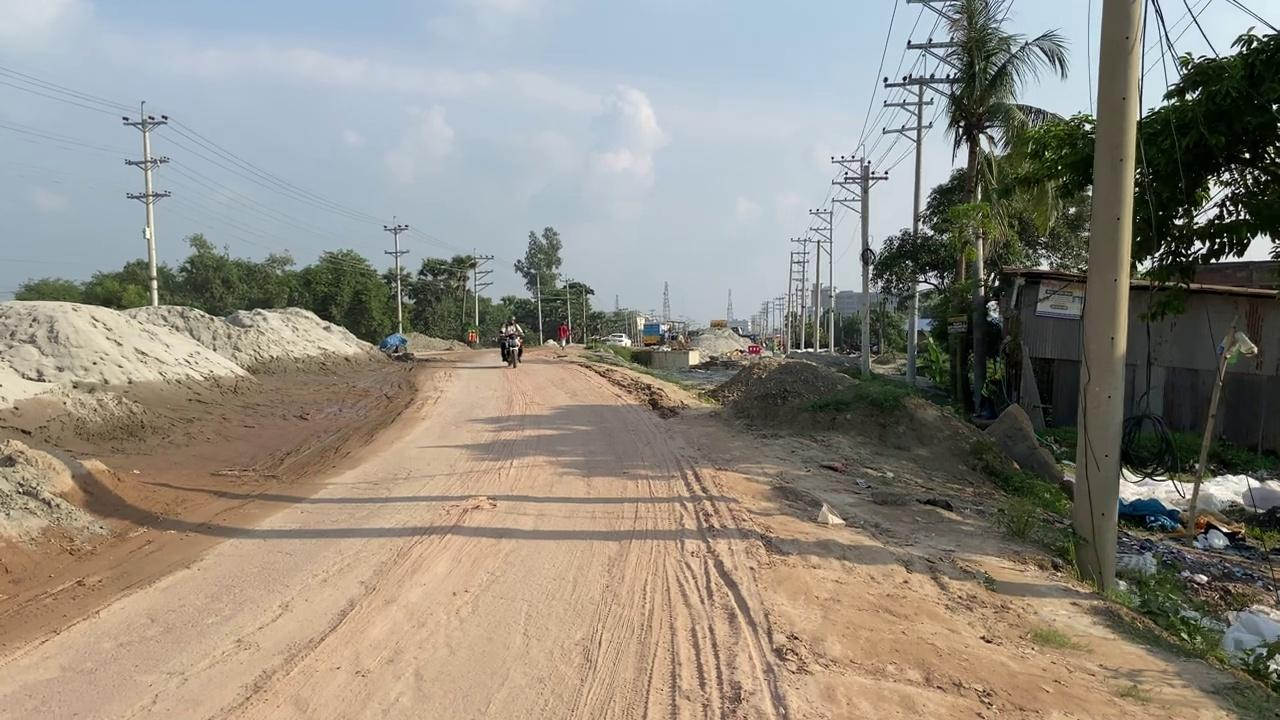Car: (601, 332, 631, 348)
Garbage: (0, 299, 407, 440)
Light-pole: (120, 100, 171, 305)
Motorcycle: (495, 331, 523, 368)
Obstacle: (1179, 322, 1258, 546)
Pole: (1070, 0, 1146, 594)
Rickshaw: (578, 350, 1106, 720)
Traffic-sign: (900, 0, 1071, 416), (513, 225, 563, 345)
Tree: (635, 310, 665, 346)
